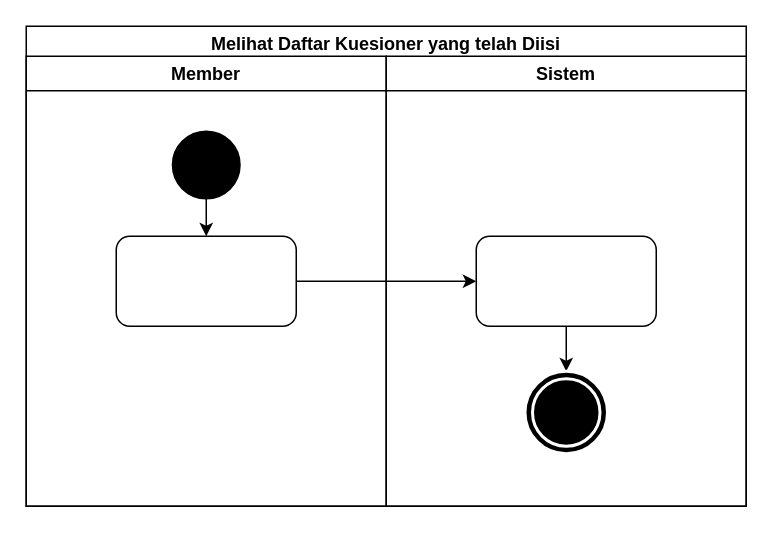
The diagram is 773 pixels wide and 533 high, and some of its shapes have lost their labels. The shapes that lost their labels are listed below. From the top down, each one's centre as x and y in pixels, then its label:
At (x=205, y=280): "Membuka halaman history".
At (x=565, y=280): "Menampilkan daftar kuesioner yang telah diisi".
